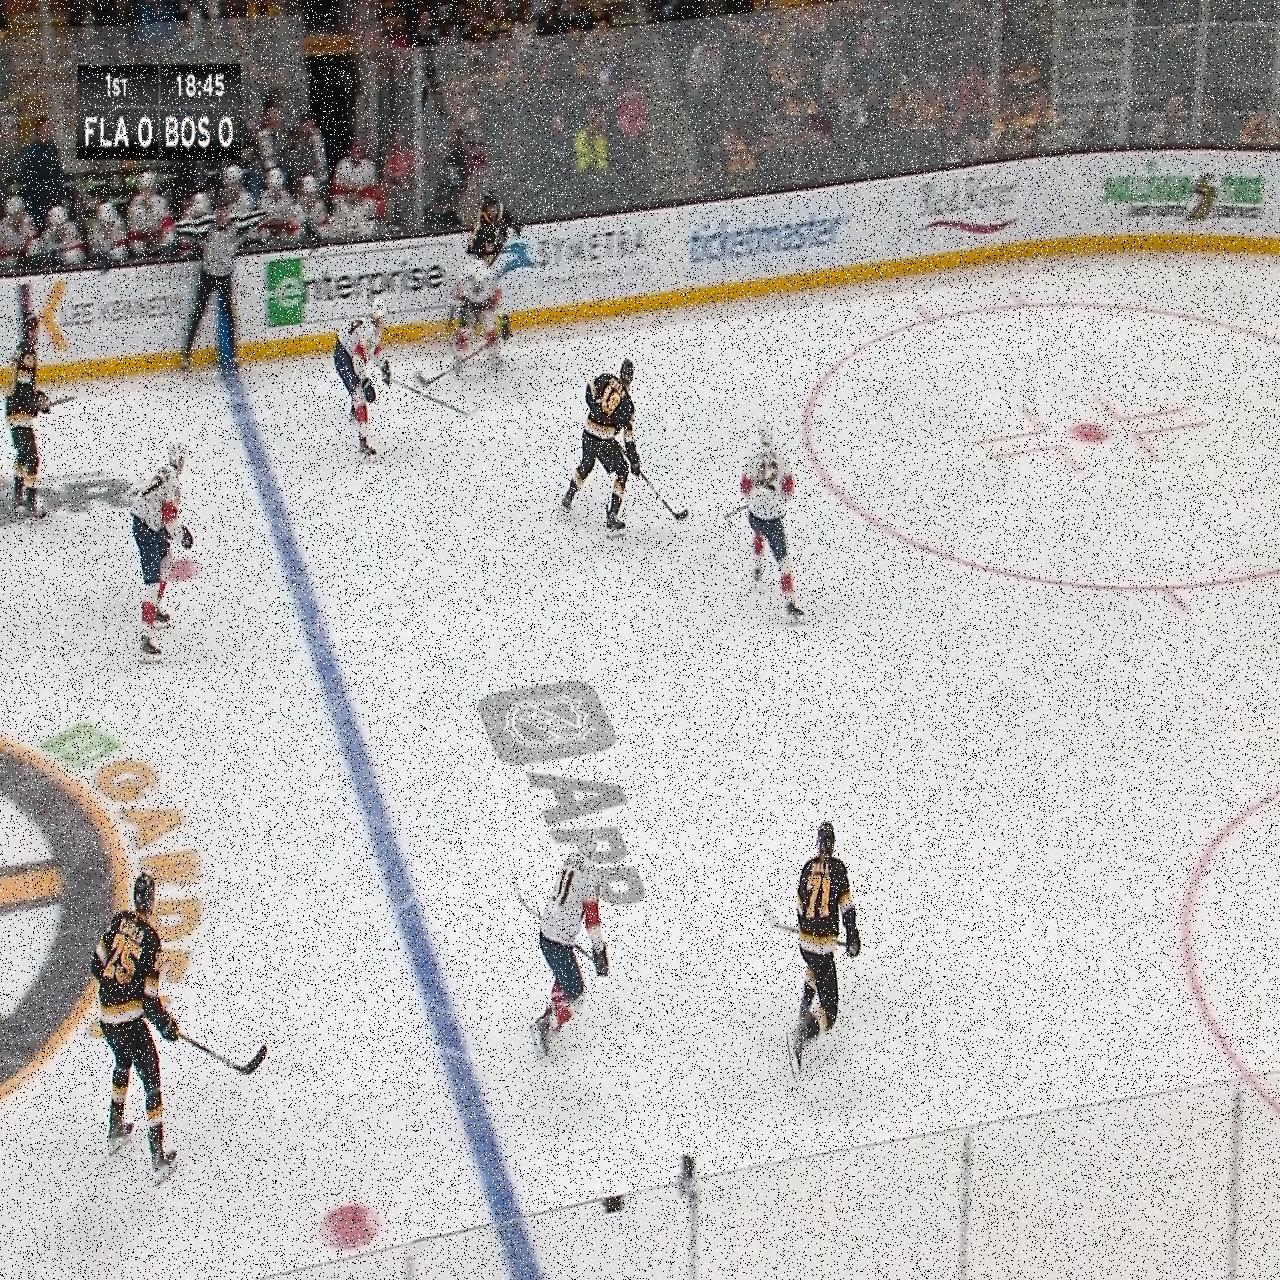Ad: (469, 675, 656, 933), (16, 277, 195, 349), (491, 227, 660, 304), (1, 457, 152, 542), (1099, 154, 1265, 230), (264, 253, 451, 314), (687, 206, 853, 268), (921, 173, 1026, 247)
